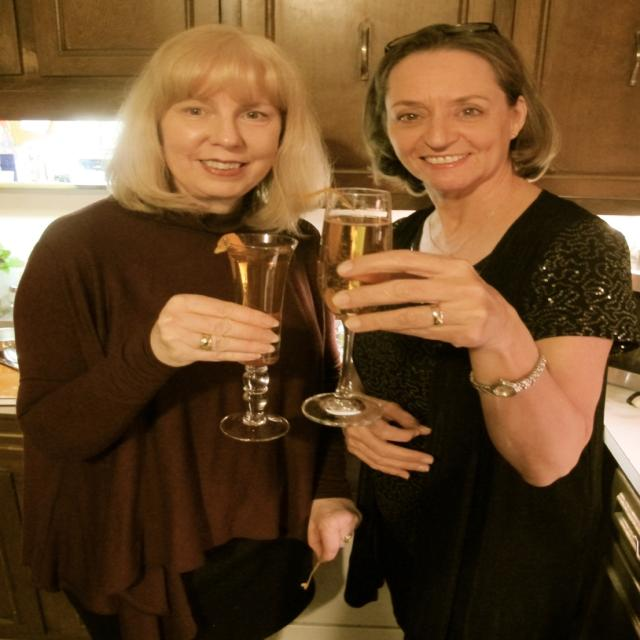no_helmet: (345, 18, 545, 134), (149, 21, 319, 155)
